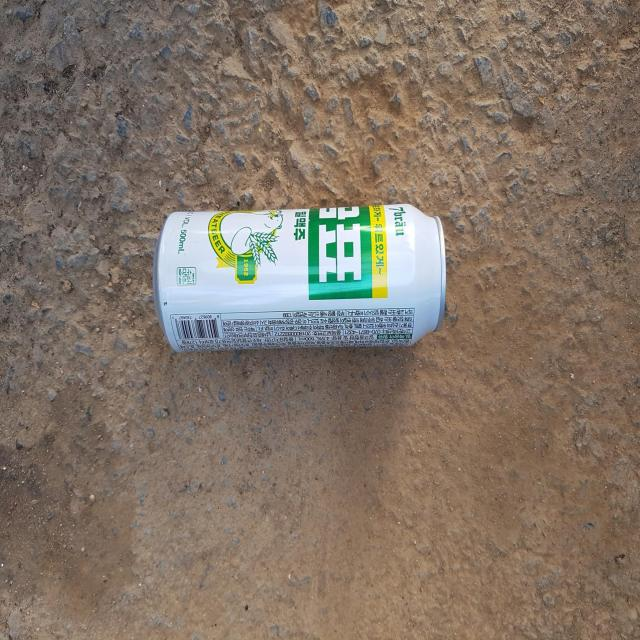can: (153, 204, 446, 352)
